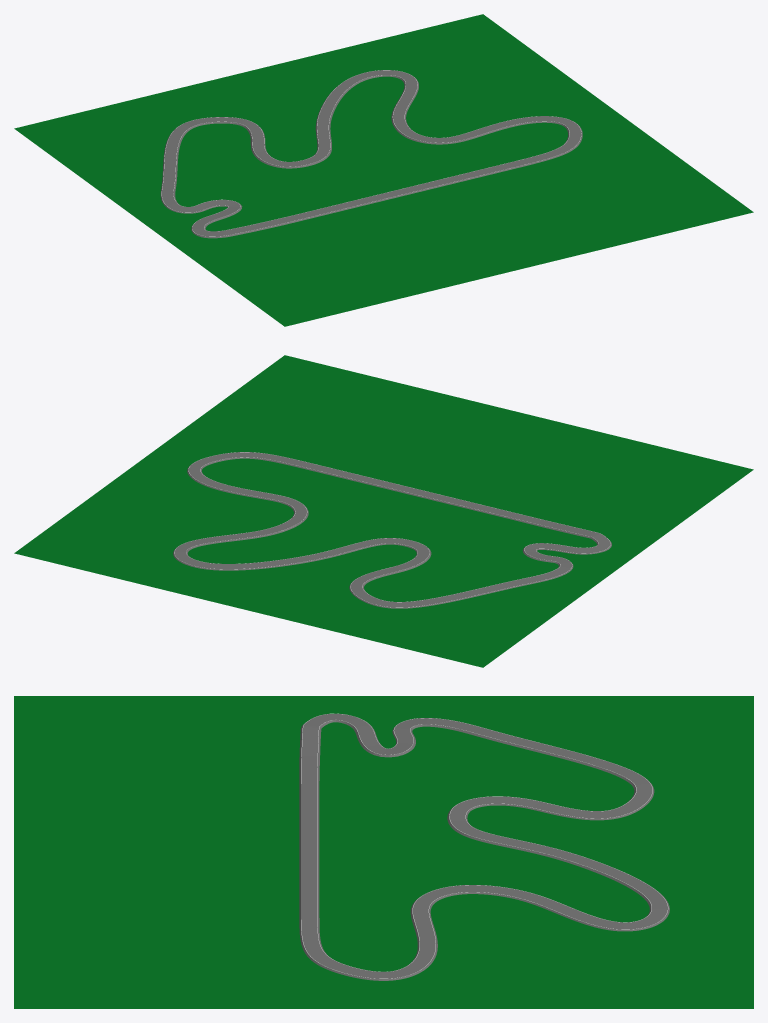
Rendered from track circuit.fbx.
3 renders of one model, top to bottom at view 1: azimuth 30°, elevation 25°; view 2: azimuth 150°, elevation 25°; view 3: azimuth 270°, elevation 25°, orthographic. The views are drawn at different scales.
Visible parts, largest first — view 1: Tempat 2, lurus; view 2: Tempat 2, lurus; view 3: Tempat 2, lurus.
Boxes of the visible parts, x1,y1,x2,y2 form: Tempat 2: (14, 14, 753, 326); lurus: (160, 70, 582, 238); Tempat 2: (14, 355, 753, 667); lurus: (173, 452, 611, 608); Tempat 2: (14, 696, 753, 1008); lurus: (299, 713, 669, 980).
Bounding box in the file's own units: 431 × 2.26 × 431.
1 material, 1 textured.
